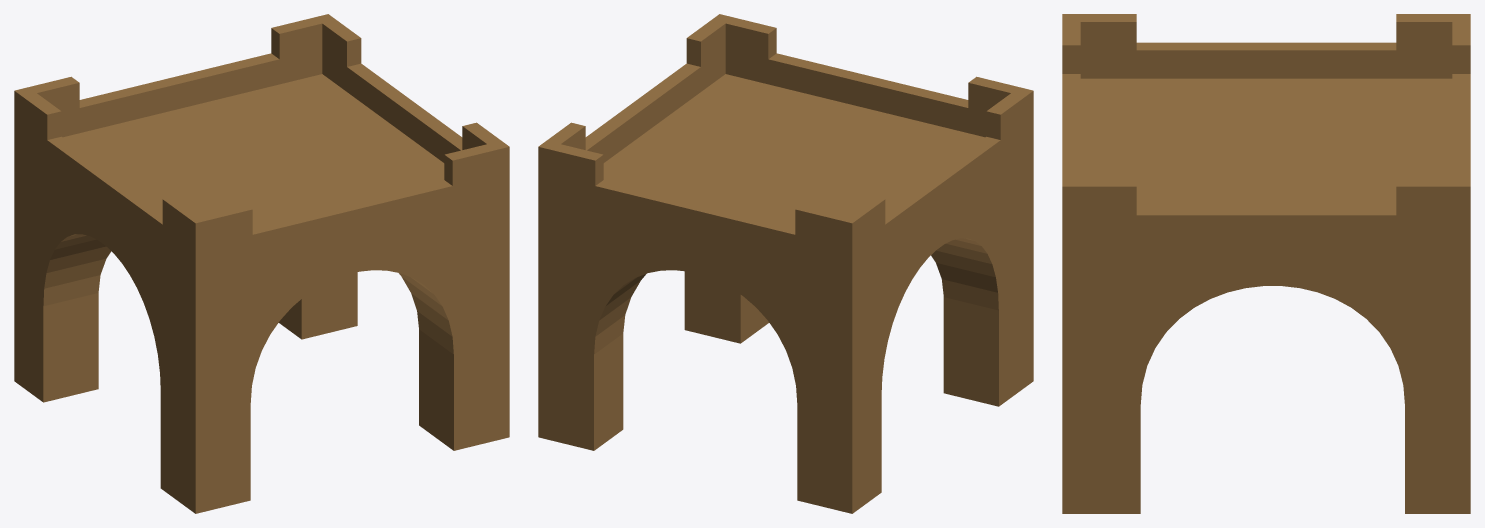
File: gate (2).fbx
3 views of the same model, side by side, from view 1: azimuth 30°, elevation 25°; view 2: azimuth 150°, elevation 25°; view 3: azimuth 270°, elevation 25° (orthographic). The views are drawn at different scales.
Visible parts, largest first — view 1: gate; view 2: gate; view 3: gate.
Part boxes in pixels (x1,y1,x2,y2): gate: (14,14,509,513); gate: (538,14,1033,513); gate: (1062,14,1470,513).
Bounding box in the file's own units: 616 × 544 × 616.
